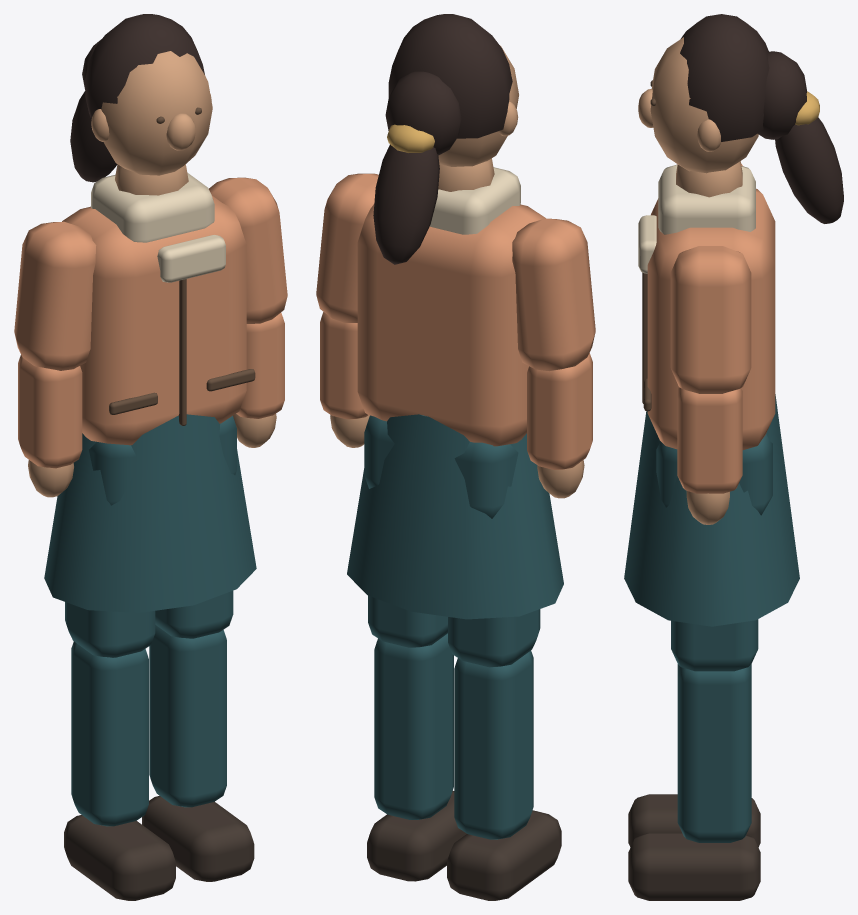
File: pedestrian-promenade.glb
3 renders of one model, left to right at view 1: azimuth 30°, elevation 25°; view 2: azimuth 150°, elevation 25°; view 3: azimuth 270°, elevation 25°, orthographic. The views are drawn at different scales.
Visible parts, largest first — view 1: upper-body, skirt, head, left-knee, right-knee, left-shoulder, left-elbow, left-ankle, right-ankle, right-shoulder, right-elbow, left-thigh (+2 smaller); view 2: upper-body, skirt, head, left-knee, right-knee, left-shoulder, left-elbow, left-ankle, right-shoulder, right-ankle, Harbor pedestrian promenade, right-elbow (+2 smaller); view 3: head, skirt, upper-body, right-knee, right-shoulder, right-ankle, right-elbow, right-thigh, Harbor pedestrian promenade, left-ankle.
Part boxes in pixels (x1,y1,x2,y2): upper-body: (62, 164, 255, 445); skirt: (44, 414, 256, 612); head: (70, 14, 212, 182); left-knee: (71, 641, 148, 826); right-knee: (149, 625, 226, 807); left-shoulder: (14, 221, 96, 370); left-elbow: (18, 355, 82, 497); left-ankle: (64, 815, 175, 900); right-ankle: (142, 796, 254, 881); right-shoulder: (209, 177, 287, 323); right-elbow: (233, 312, 284, 447); left-thigh: (65, 602, 155, 657); upper-body: (357, 158, 545, 446); skirt: (347, 414, 563, 619); head: (373, 14, 518, 264); left-knee: (454, 650, 533, 839); right-knee: (374, 633, 453, 819); left-shoulder: (512, 218, 595, 371); left-elbow: (527, 353, 592, 498); left-ankle: (447, 810, 561, 900); right-shoulder: (316, 173, 378, 322); right-ankle: (367, 791, 466, 881); Harbor pedestrian promenade: (364, 415, 518, 518); right-elbow: (320, 312, 369, 447); head: (638, 14, 843, 223); skirt: (624, 394, 799, 626); upper-body: (638, 161, 775, 449); right-knee: (677, 664, 751, 842); right-shoulder: (670, 246, 751, 393); right-ankle: (628, 833, 760, 900); right-elbow: (677, 387, 742, 524); right-thigh: (671, 619, 758, 671); Harbor pedestrian promenade: (656, 434, 772, 515); left-ankle: (628, 794, 760, 847).
Size of the model in its own units: 0.5643 by 1.78 by 0.4138.
